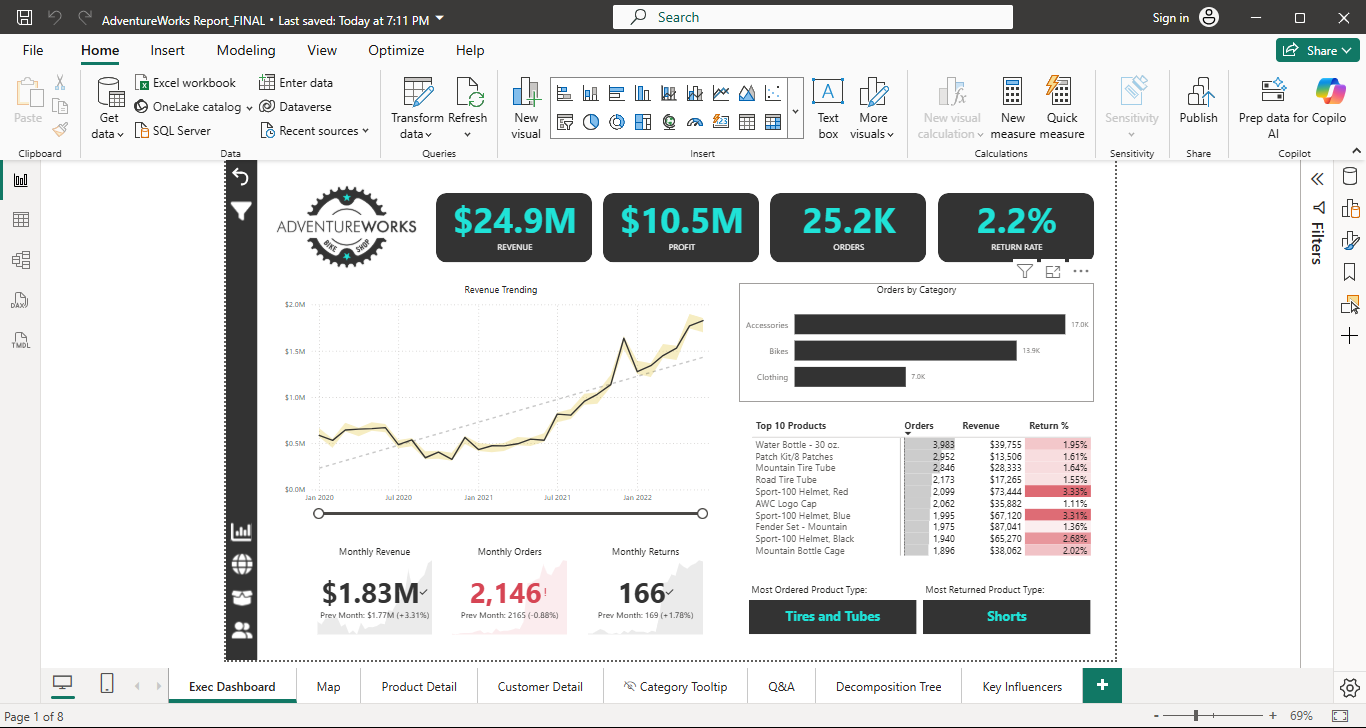

The page's visual inventory and layout, read from the dashboard file:
{"tool":"powerbi","page":{"name":"Exec Dashboard","canvas":[1280,720],"ordinal":0},"visuals":[{"type":"card","fields":{"Values":["Measure Table.Total Revenue"]},"box":[288.1,17.8,256.2,150],"z":0,"group":"g2"},{"type":"image","title":"AW Logo","box":[45.6,26.6,256.2,141.2],"z":0},{"type":"shape","box":[303.1,47.8,225,100],"z":0,"group":"g1"},{"type":"actionButton","box":[2.5,516.7,45.6,37.8],"z":0,"group":"g3"},{"type":"card","fields":{"Values":["Measure Table.Total Profit"]},"box":[528.9,17.8,256.2,150],"z":1000,"group":"g2"},{"type":"shape","box":[543.9,47.8,225,100],"z":1000,"group":"g1"},{"type":"actionButton","box":[3.3,563.4,45.6,37.8],"z":1000,"group":"g3"},{"type":"card","fields":{"Values":["Measure Table.Total Orders"]},"box":[769.8,17.8,256.2,150],"z":2000,"group":"g2"},{"type":"group","id":"g1","title":"KPI Backgrounds","box":[303.1,47.8,947.5,100],"z":2000},{"type":"shape","box":[784.8,47.8,225,100],"z":2000,"group":"g1"},{"type":"actionButton","box":[3.3,611.1,45.6,37.8],"z":2000,"group":"g3"},{"type":"shape","title":"Left Nav Background","box":[0,0,45,720],"z":3000},{"type":"card","fields":{"Values":["Measure Table.Return Rate"]},"box":[1010.6,17.8,256.2,150],"z":3000,"group":"g2"},{"type":"shape","box":[1025.6,47.8,225,100],"z":3000,"group":"g1"},{"type":"actionButton","box":[3.3,657.8,45.6,37.8],"z":3000,"group":"g3"},{"type":"group","id":"g2","title":"KPI Values","box":[288.1,17.8,978.8,150],"z":4000},{"type":"lineChart","title":"Revenue Trending","fields":{"Category":["Calendar Lookup.Start of Month"],"Y":["Measure Table.Total Revenue"]},"box":[78.9,177.7,633.8,342.5],"z":5000},{"type":"kpi","title":"Monthly Revenue","fields":{"Goal":["Measure Table.Previous Month Revenue"],"Indicator":["Measure Table.Total Revenue"],"TrendLine":["Calendar Lookup.Start of Month"]},"box":[126.2,555,175,133.8],"z":6000},{"type":"kpi","title":"Monthly Orders","fields":{"Goal":["Measure Table.Previous Month Orders"],"Indicator":["Measure Table.Total Orders"],"TrendLine":["Calendar Lookup.Start of Month"]},"box":[321.2,555,175,133.8],"z":7000},{"type":"kpi","title":"Monthly Returns","fields":{"Goal":["Measure Table.Previous Month Returns"],"Indicator":["Measure Table.Total Returns"],"TrendLine":["Calendar Lookup.Start of Month"]},"box":[516.2,555,175,133.8],"z":8000},{"type":"clusteredBarChart","title":"Orders by Category","fields":{"Category":["Product Categories Lookup.CategoryName"],"Y":["Measure Table.Total Orders"]},"box":[738.9,177.7,511.2,171.2],"z":9000},{"type":"pivotTable","fields":{"Rows":["Product Lookup.ProductName"],"Values":["Measure Table.Total Orders","Measure Table.Total Revenue","Measure Table.Return Rate"]},"box":[753.7,369.2,511.1,228.4],"z":10000},{"type":"card","fields":{"Values":["Min(Product Subcategories Lookup.SubcategoryName)"]},"box":[753.7,634.2,241.4,48.5],"z":11000},{"type":"textbox","box":[751.3,604.6,198.8,35.5],"z":12000},{"type":"card","fields":{"Values":["Min(Product Subcategories Lookup.SubcategoryName)"]},"box":[1004.1,634.2,241.4,48.5],"z":13000},{"type":"textbox","box":[1002.2,605.2,198.8,35.5],"z":14000},{"type":"actionButton","box":[3.3,5.6,35.6,35.6],"z":15000},{"type":"group","id":"g3","title":"Navigation Buttons","box":[2.5,516.7,46.4,178.9],"z":16000},{"type":"actionButton","box":[3.4,53.1,38.4,39.6],"z":17000}]}

Visuals, with their boxes on the page's 1280x720 design canvas (x1, y1, x2, y2). These are canvas units, not pixel positions in the 1366x728 screenshot, which may show the page scaled, cropped or inside an application window:
card - Measure Table.Total Revenue: BBox(288, 18, 544, 168)
"AW Logo" image: BBox(46, 27, 302, 168)
shape: BBox(303, 48, 528, 148)
actionButton: BBox(2, 517, 48, 554)
card - Measure Table.Total Profit: BBox(529, 18, 785, 168)
shape: BBox(544, 48, 769, 148)
actionButton: BBox(3, 563, 49, 601)
card - Measure Table.Total Orders: BBox(770, 18, 1026, 168)
"KPI Backgrounds" group: BBox(303, 48, 1251, 148)
shape: BBox(785, 48, 1010, 148)
actionButton: BBox(3, 611, 49, 649)
"Left Nav Background" shape: BBox(0, 0, 45, 720)
card - Measure Table.Return Rate: BBox(1011, 18, 1267, 168)
shape: BBox(1026, 48, 1251, 148)
actionButton: BBox(3, 658, 49, 696)
"KPI Values" group: BBox(288, 18, 1267, 168)
"Revenue Trending" lineChart: BBox(79, 178, 713, 520)
"Monthly Revenue" kpi: BBox(126, 555, 301, 689)
"Monthly Orders" kpi: BBox(321, 555, 496, 689)
"Monthly Returns" kpi: BBox(516, 555, 691, 689)
"Orders by Category" clusteredBarChart: BBox(739, 178, 1250, 349)
pivotTable - Product Lookup.ProductName x Measure Table.Total Orders: BBox(754, 369, 1265, 598)
card - Min(Product Subcategories Lookup.SubcategoryName): BBox(754, 634, 995, 683)
textbox: BBox(751, 605, 950, 640)
card - Min(Product Subcategories Lookup.SubcategoryName): BBox(1004, 634, 1246, 683)
textbox: BBox(1002, 605, 1201, 641)
actionButton: BBox(3, 6, 39, 41)
"Navigation Buttons" group: BBox(2, 517, 49, 696)
actionButton: BBox(3, 53, 42, 93)
